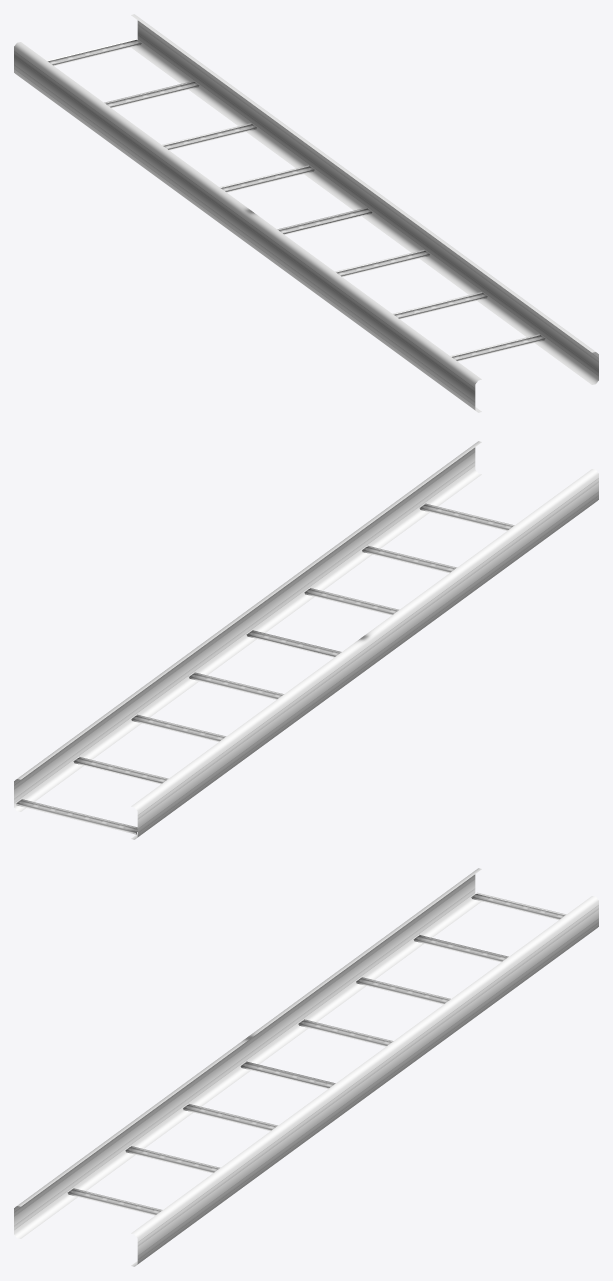
The model's file is prop_railingLOD.fbx.
3 renders of one model, top to bottom at view 1: azimuth 30°, elevation 25°; view 2: azimuth 150°, elevation 25°; view 3: azimuth 330°, elevation 25°, orthographic.
Visible parts, largest first — view 1: LOWPOLY_RAILING; view 2: LOWPOLY_RAILING; view 3: LOWPOLY_RAILING.
Part boxes in pixels (x1,y1,x2,y2): LOWPOLY_RAILING: [14, 14, 598, 412]; LOWPOLY_RAILING: [14, 441, 598, 839]; LOWPOLY_RAILING: [14, 868, 598, 1266].
Size of the model in its own units: 360 by 90 by 2328.
Materials: 1 (1 with a texture image).
